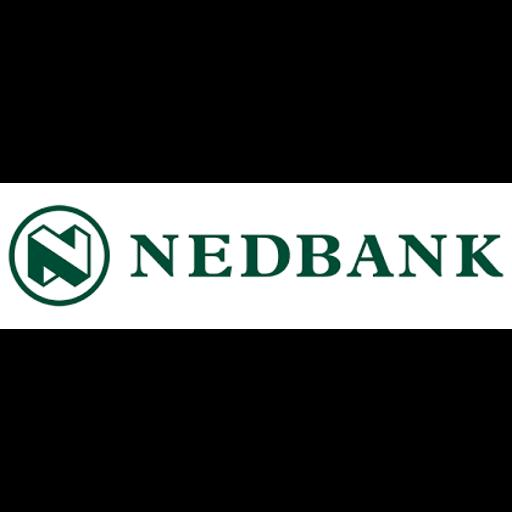NedBank Limited: (0, 183, 512, 329)
